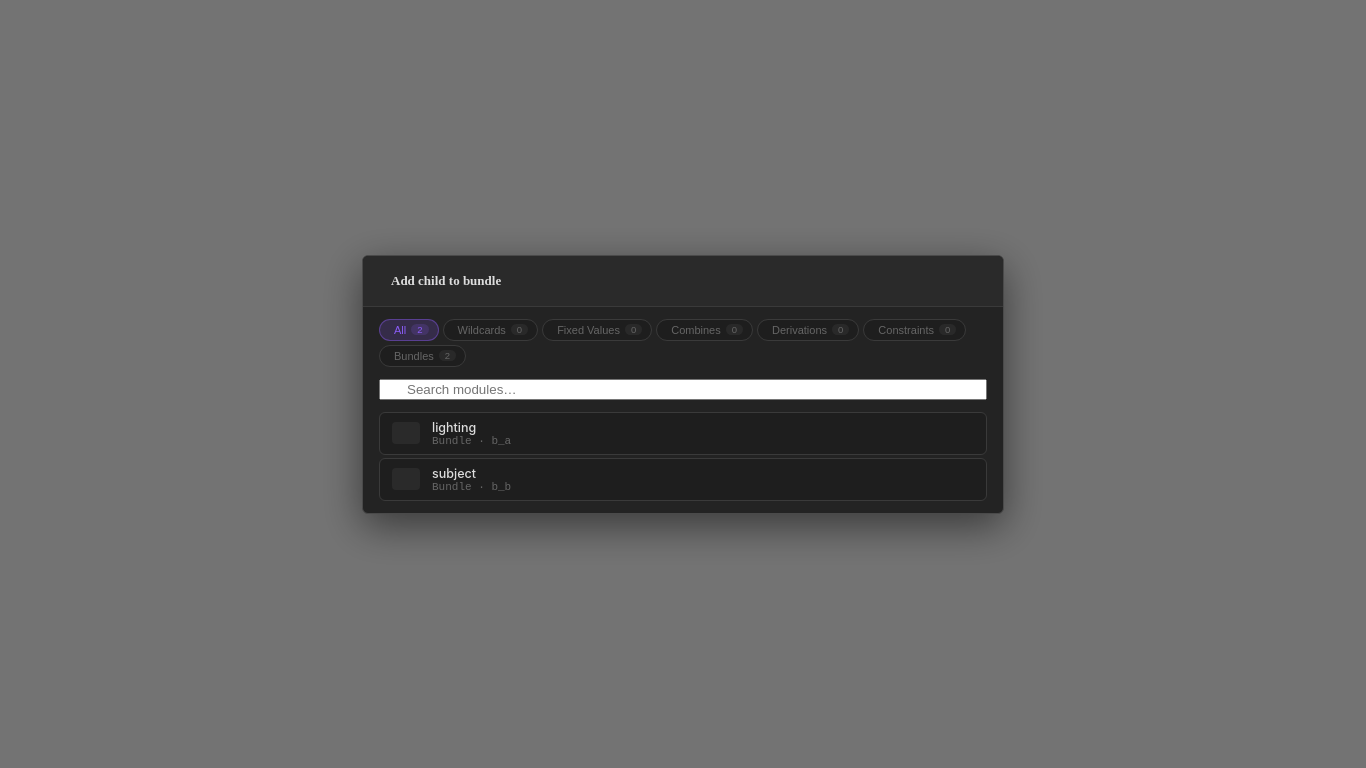
Test: BundleAddChildModal.vue › search filter applies to bundles
The image size is (1366, 768).
Type "light" into the field with test id "bundle-add-search" at (683, 389), box [379,378,987,400]
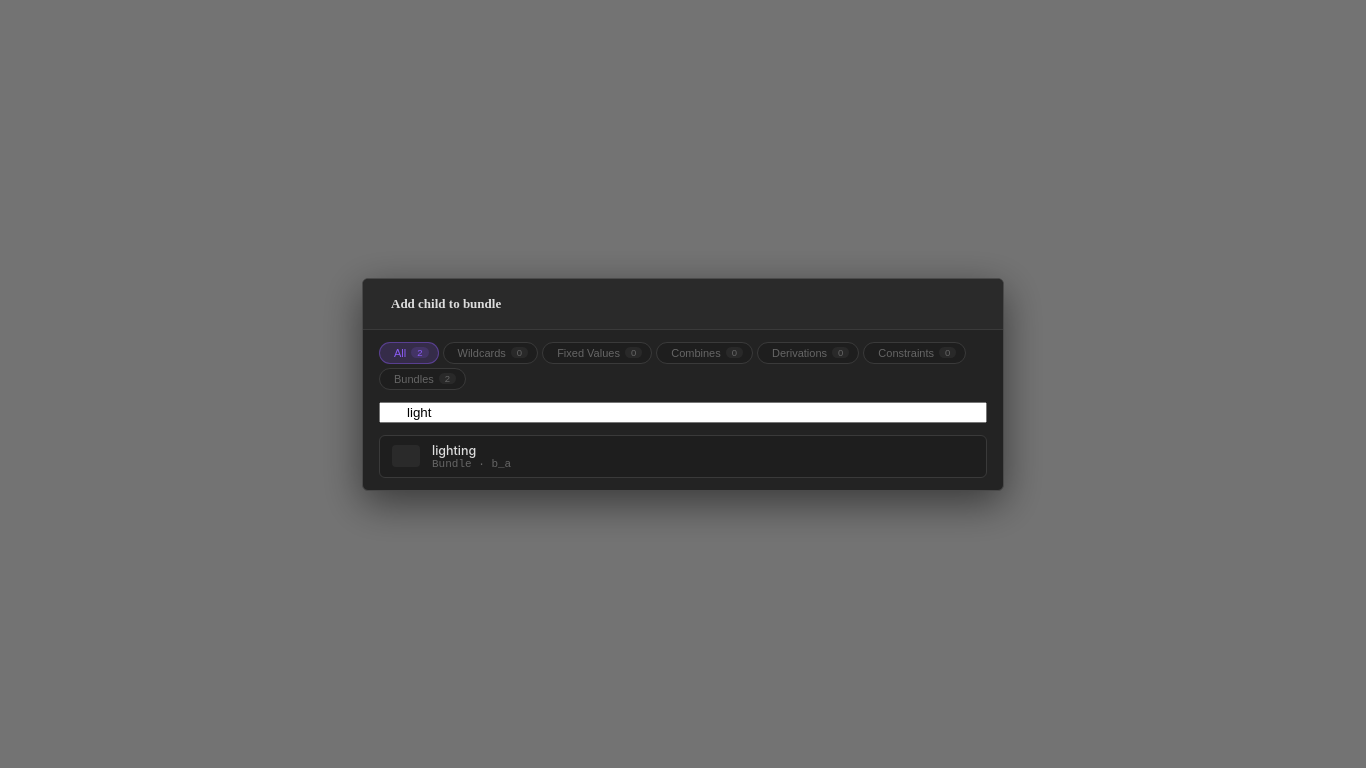
Expected: the text "lighting" is shown, [432,442,476,458]
Result: the text "subject" is gone
